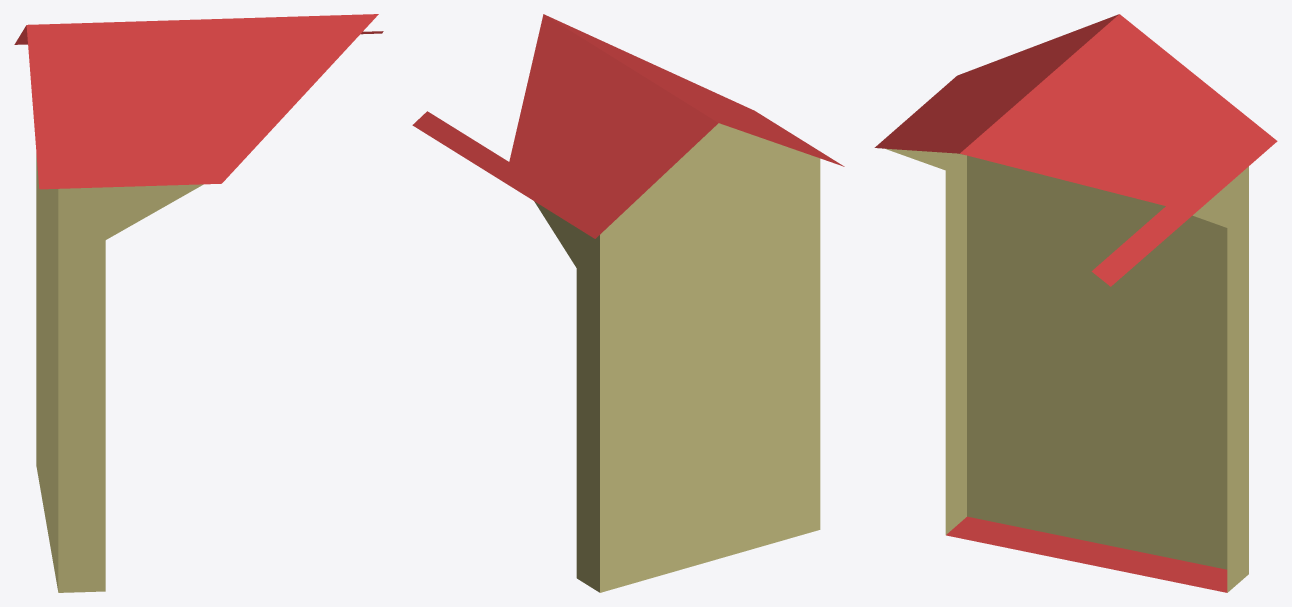
3 views of the same model, side by side, from view 1: azimuth 30°, elevation 25°; view 2: azimuth 150°, elevation 25°; view 3: azimuth 270°, elevation 25° (orthographic). The views are drawn at different scales.
Bounding box in the file's own units: 11.63 × 9.38 × 13.44.
